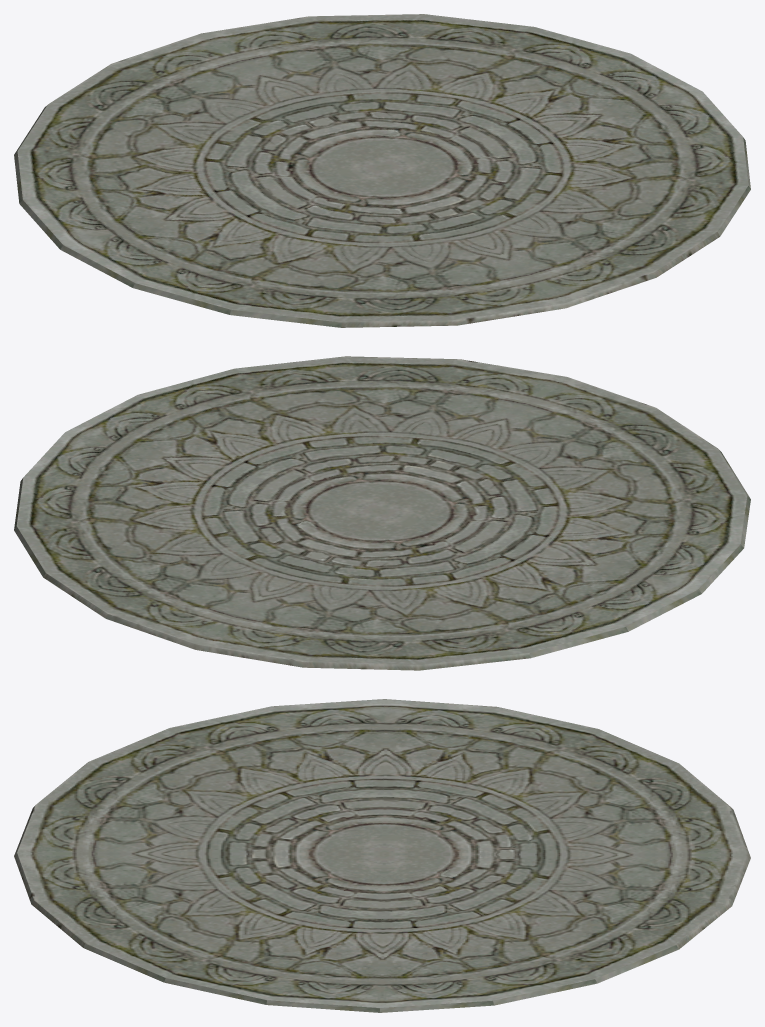
File: Demo_jiangnan_yuanpan.FBX
The picture shows the model from 3 angles, top to bottom: view 1: azimuth 30°, elevation 25°; view 2: azimuth 150°, elevation 25°; view 3: azimuth 270°, elevation 25°; orthographic projection.
Parts seen in each view (by area): view 1: DrawCall_0597a; view 2: DrawCall_0597a; view 3: DrawCall_0597a.
Boxes of the visible parts, x1,y1,x2,y2 form: DrawCall_0597a: [14, 14, 750, 327]; DrawCall_0597a: [14, 356, 750, 670]; DrawCall_0597a: [14, 699, 750, 1012].
Bounding box in the file's own units: 408 × 2.34 × 408.
